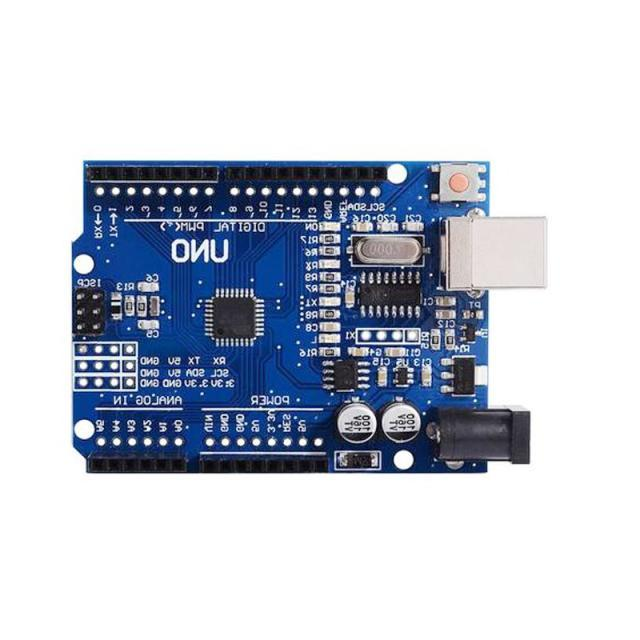Arduino: (49, 138, 572, 505)
